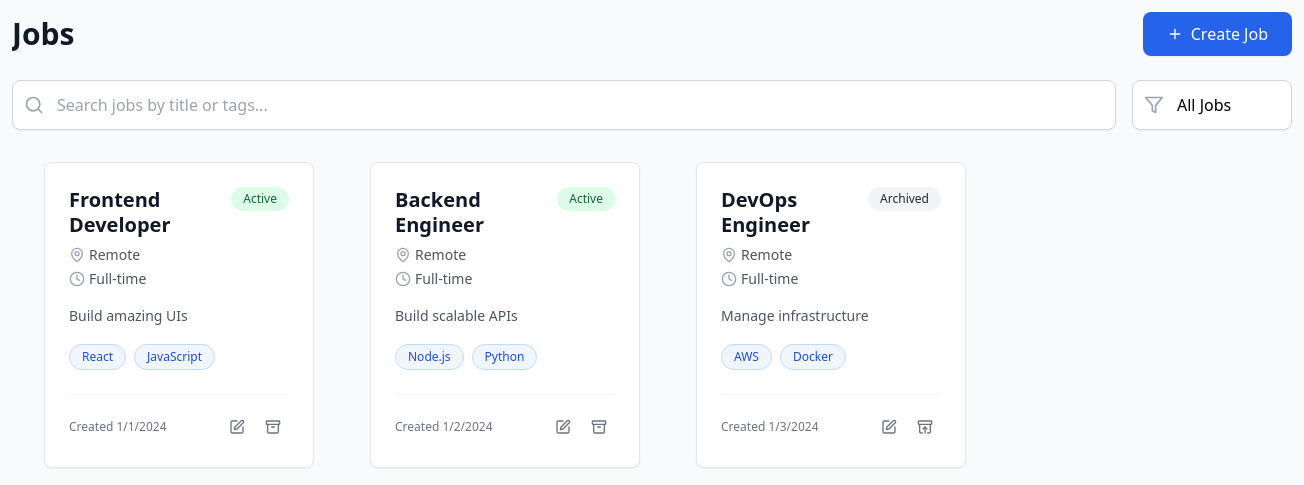
it: JobsPage › shows no results message when no jobs match filters
The image size is (1304, 485).
Type "nonexistent job" into the field with placeholder "Search jobs by title or tags..." at (564, 105), box [12,80,1116,130]
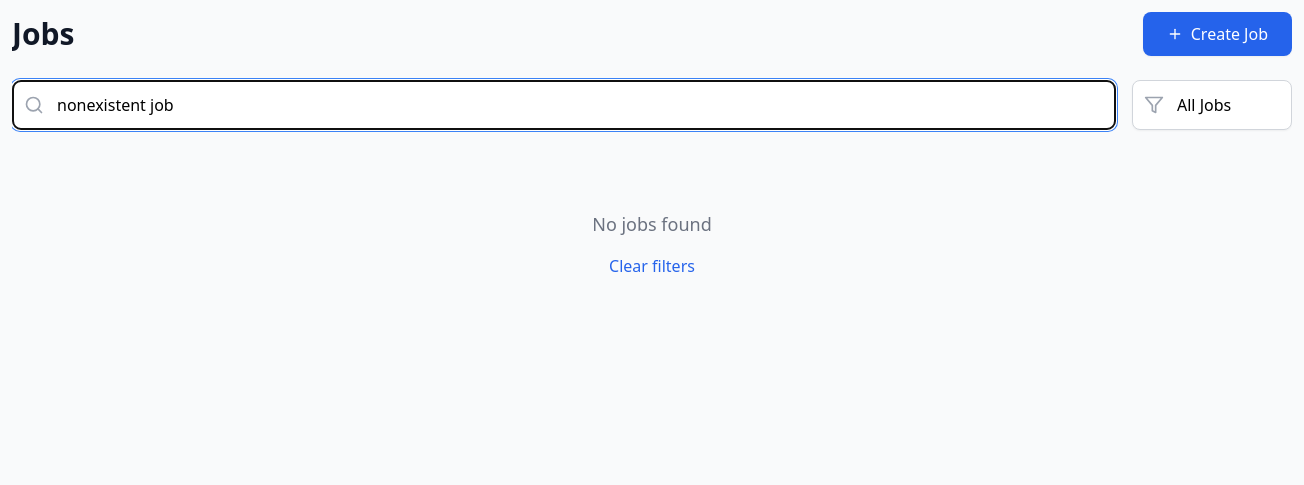
Check: the text "No jobs found" is shown, box [592,212,712,236]
Check: the button "Clear filters" is shown, box [609,254,695,278]
